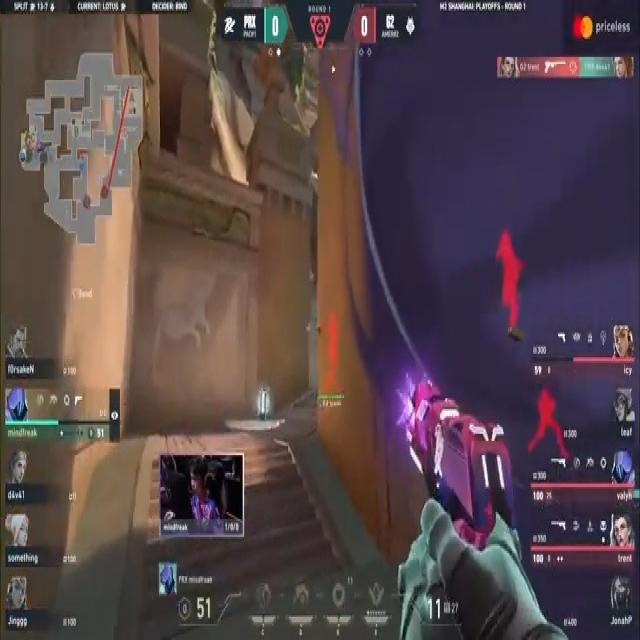enemy behind wall: (485, 226, 530, 332), (532, 384, 568, 461)
smoke: (355, 0, 640, 452)
